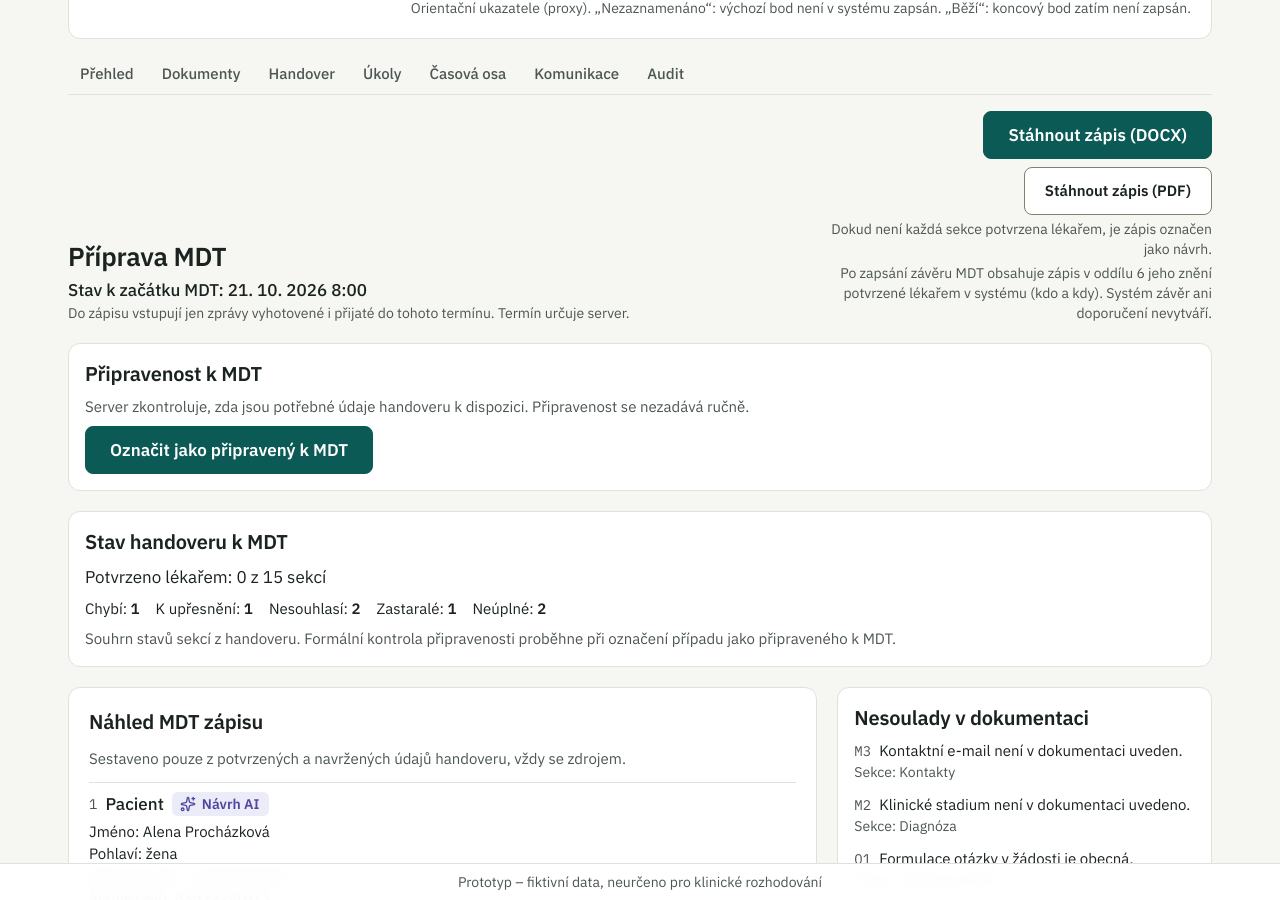
Test case: Označit jako připravený k MDT (Lékař KOC) › any other refusal is shown as text, without a waiver form
(page scrolled)
What coordinates should you click on to do the following:
click the button "Označit jako připravený k MDT"
I would click on:
 (229, 450)
Its box is [85,426,373,474].
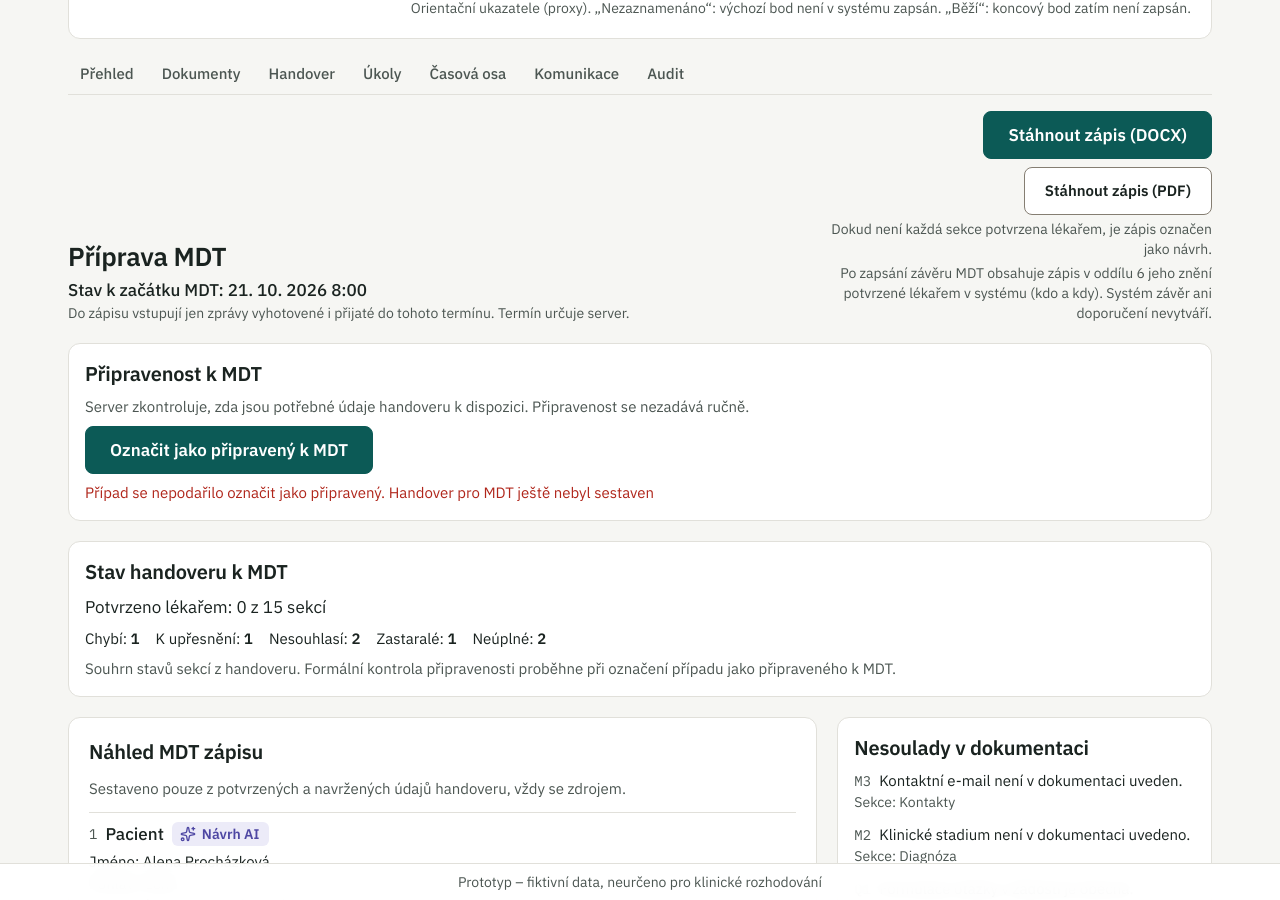
Expected: the message shows "Handover pro MDT ještě nebyl sestaven", [389,483,654,502]
